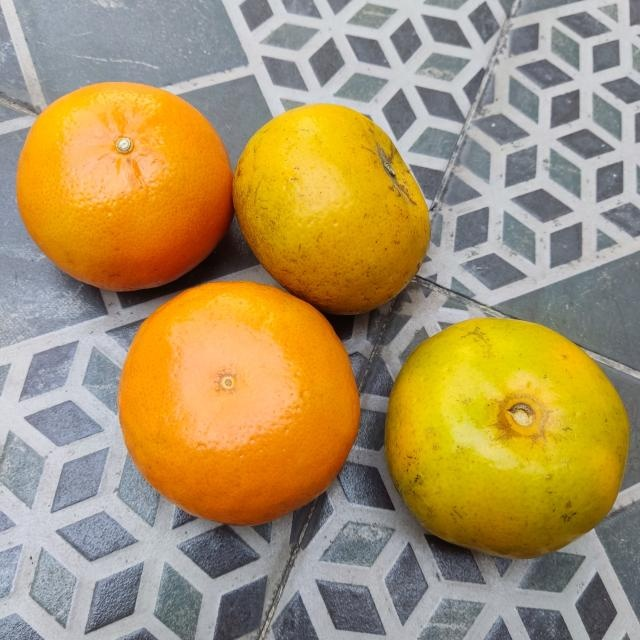agrume: (111, 279, 359, 525), (381, 315, 626, 561), (15, 78, 234, 297), (230, 93, 440, 315)
